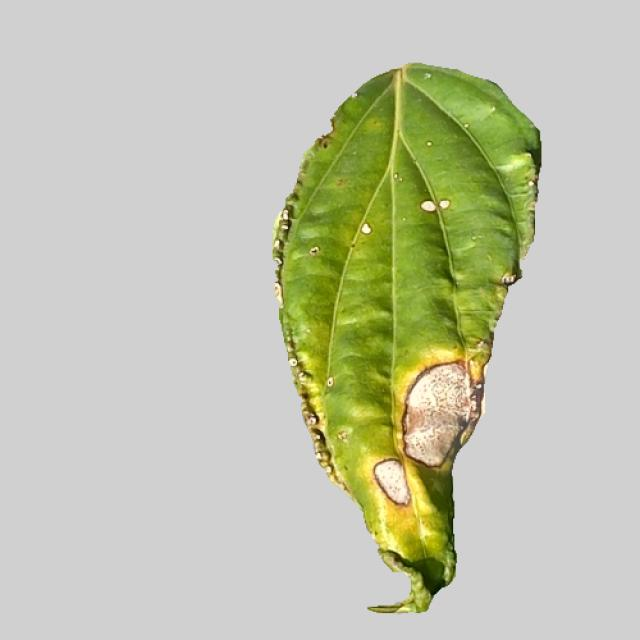leaf-blight: (248, 74, 553, 616)
